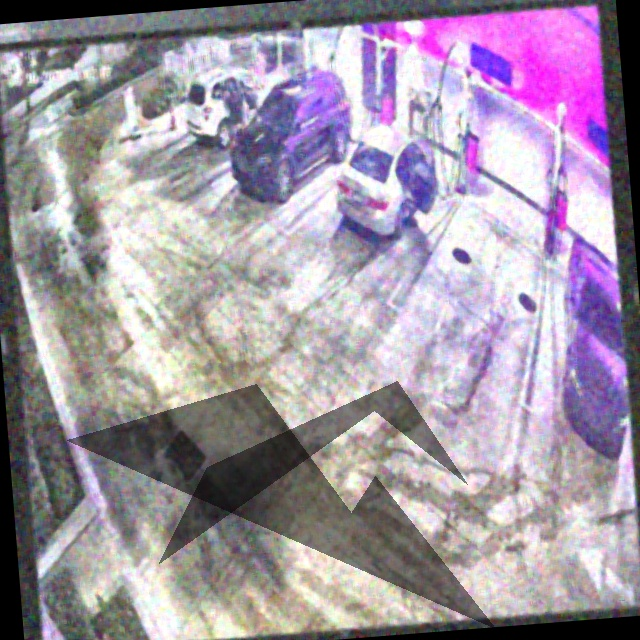Car: (226, 64, 358, 203), (331, 122, 444, 245), (182, 62, 273, 147)
